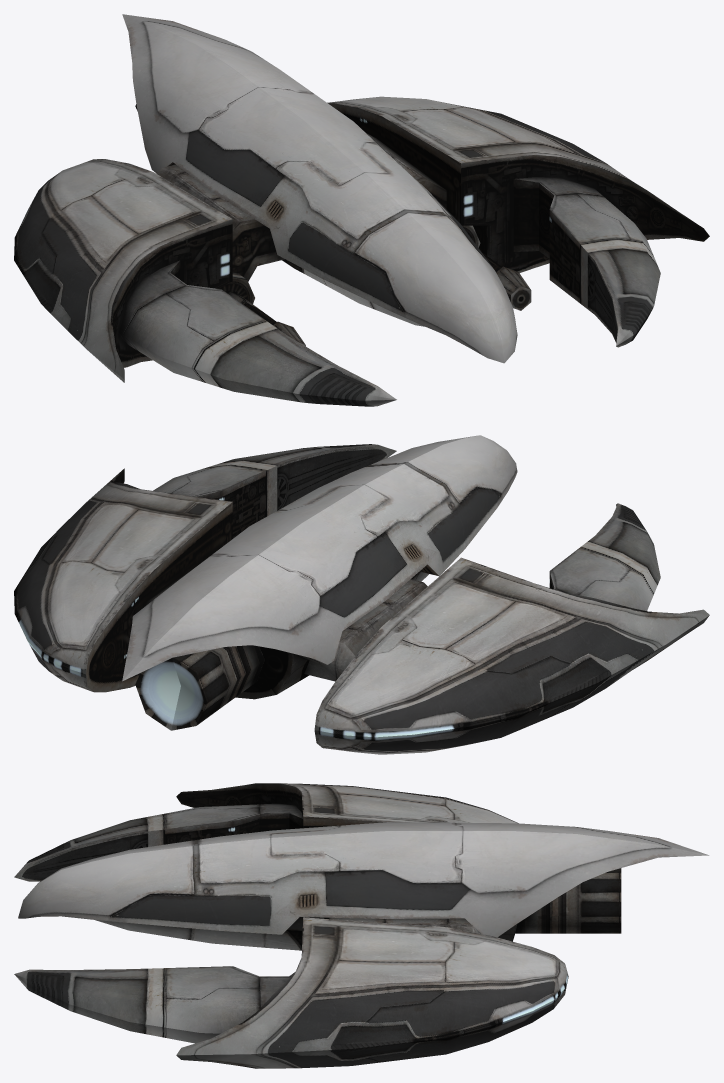
Rendered from 31866_lite.glb.
3 renders of one model, top to bottom at view 1: azimuth 30°, elevation 25°; view 2: azimuth 150°, elevation 25°; view 3: azimuth 270°, elevation 25°, orthographic. The views are drawn at different scales.
Visible parts, largest first — view 1: ship; view 2: ship; view 3: ship.
Boxes of the visible parts, <box> form: ship: <box>14,14,709,406</box>; ship: <box>14,435,709,754</box>; ship: <box>14,783,709,1068</box>.
Bounding box in the file's own units: 0.0694 × 0.0189 × 0.0788.
Materials: 1 (1 with a texture image).
